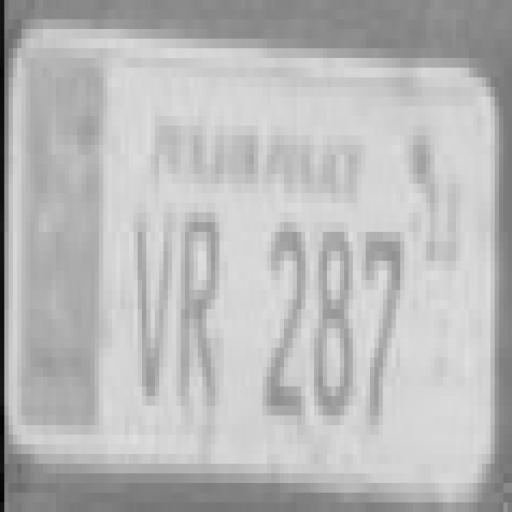2: (268, 222, 308, 423)
7: (354, 238, 407, 415)
8: (315, 231, 349, 421)
R: (176, 210, 223, 416)
V: (124, 205, 173, 416)
